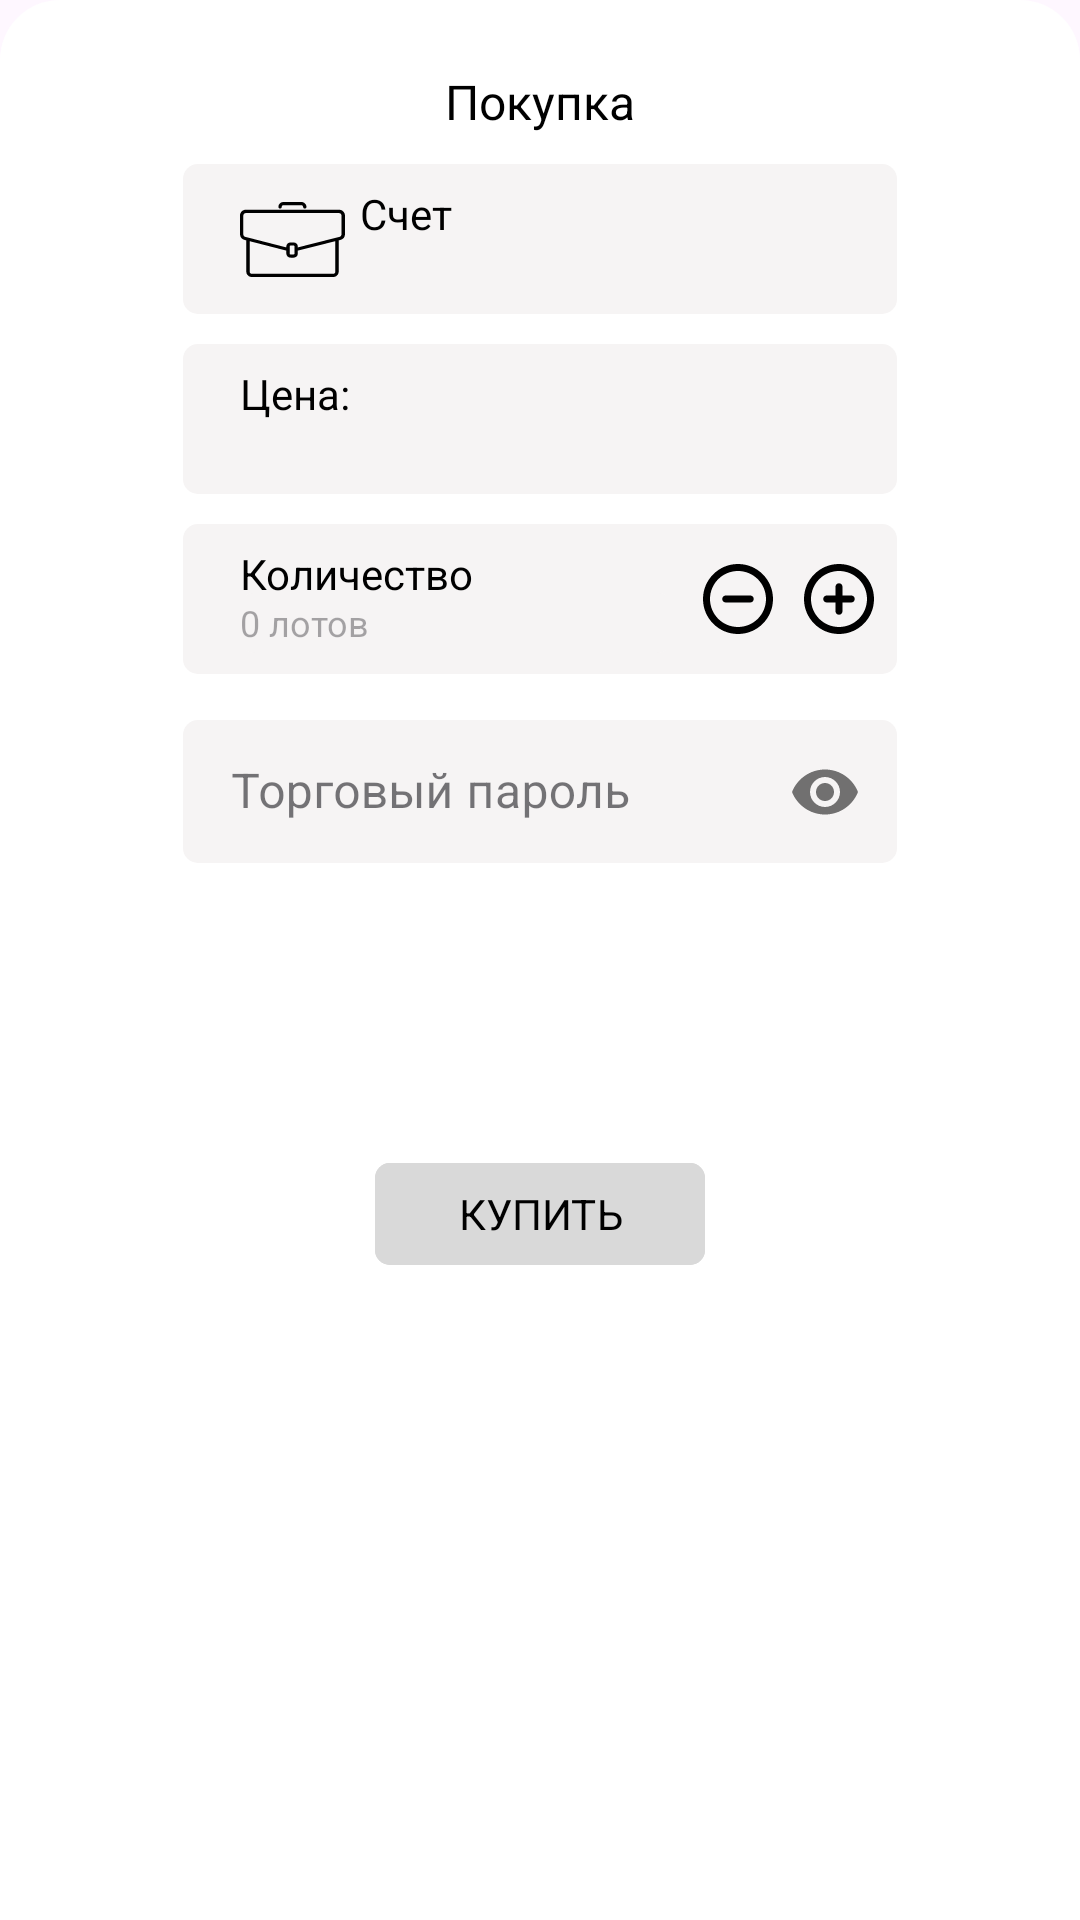

Icon bounding boxes for this 1080x1920 phone screenshot, format detection(x1, y1, x2, y2):
briefcase: detection(240, 202, 345, 277)
circle minus: detection(703, 564, 773, 634)
circle plus: detection(804, 564, 874, 634)
